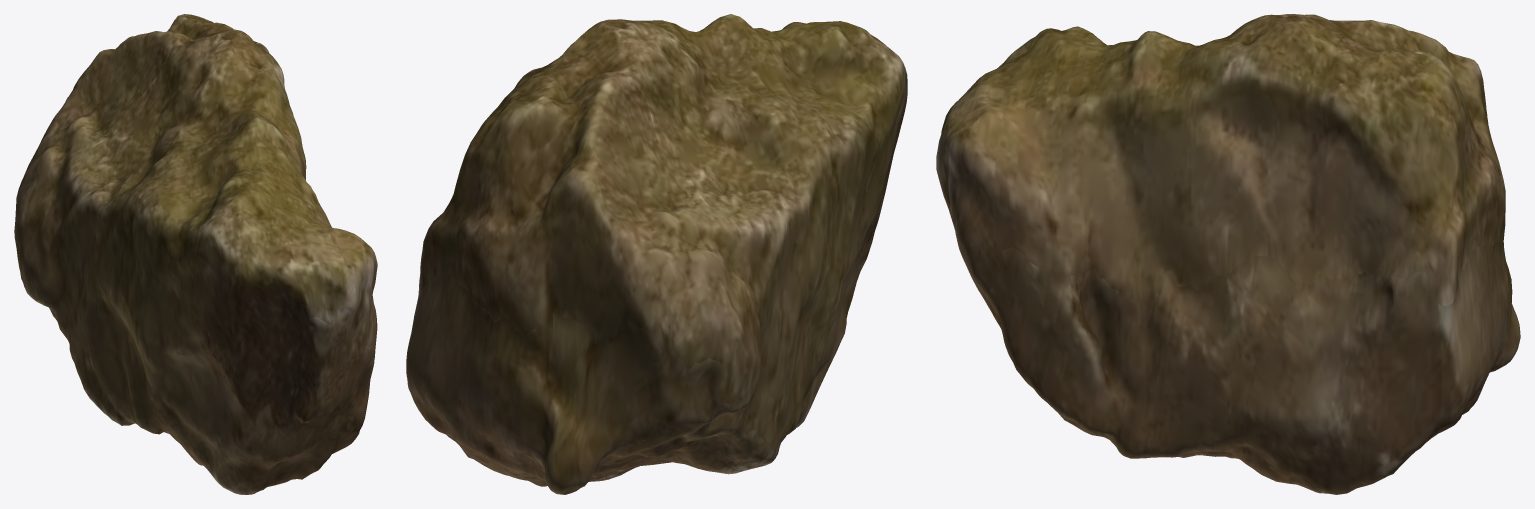
Rendered from stone_e.glb.
3 renders of one model, left to right at view 1: azimuth 30°, elevation 25°; view 2: azimuth 150°, elevation 25°; view 3: azimuth 270°, elevation 25°, orthographic. The views are drawn at different scales.
Visible parts, largest first — view 1: rock_moss_set_01_rock05.001; view 2: rock_moss_set_01_rock05.001; view 3: rock_moss_set_01_rock05.001.
Part boxes in pixels (<box>): rock_moss_set_01_rock05.001: <box>14,14,377,494</box>; rock_moss_set_01_rock05.001: <box>406,14,907,494</box>; rock_moss_set_01_rock05.001: <box>936,14,1520,494</box>.
Bounding box in the file's own units: 1.89 × 2.67 × 3.13.
Materials: 1 (1 with a texture image).
